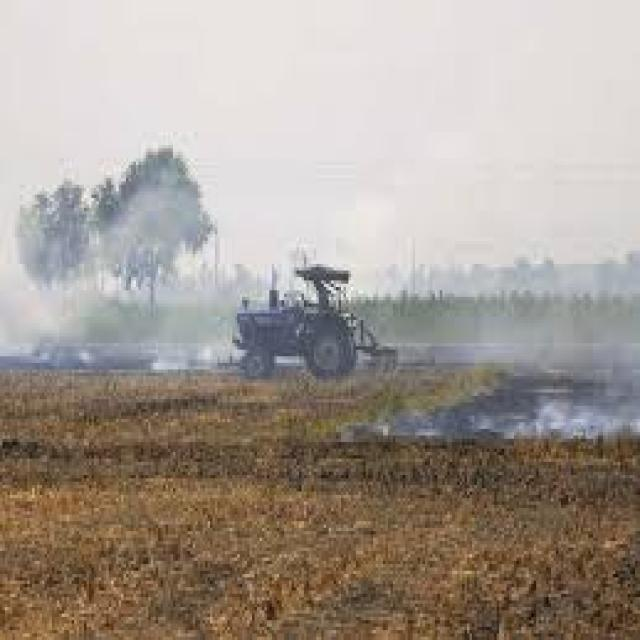Smoke: (0, 85, 640, 438)
